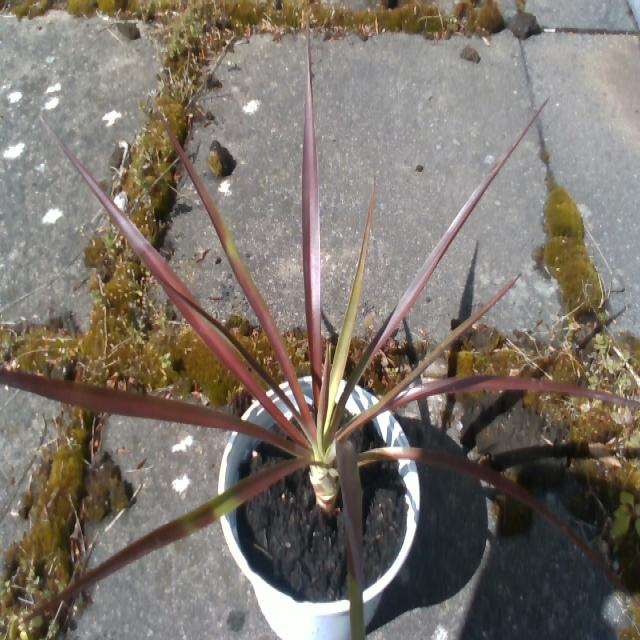Yucca-aloifolia: (45, 121, 307, 443), (347, 124, 527, 389), (51, 459, 309, 605), (360, 447, 624, 588), (169, 133, 301, 399), (2, 373, 307, 456), (378, 288, 504, 412), (325, 180, 374, 429), (389, 375, 639, 409), (190, 301, 276, 385), (302, 21, 320, 399), (337, 441, 363, 639), (343, 419, 364, 439), (303, 408, 315, 435)
